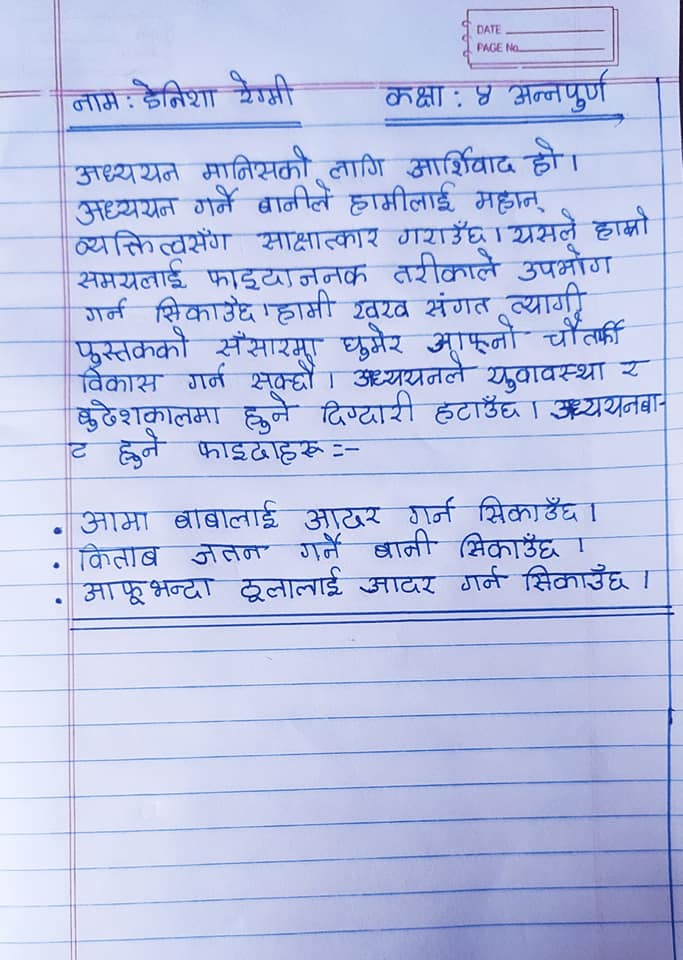text: (203, 258, 372, 289), (72, 226, 236, 256), (72, 327, 192, 368), (507, 67, 611, 113), (72, 398, 223, 428), (200, 143, 312, 183), (76, 575, 217, 606), (72, 255, 192, 291), (238, 565, 348, 604), (392, 248, 504, 286), (401, 144, 519, 180), (194, 435, 327, 466), (517, 243, 617, 284), (350, 353, 470, 387), (317, 388, 420, 427), (342, 182, 459, 216), (171, 500, 281, 535), (456, 529, 565, 564), (483, 360, 610, 390), (248, 226, 383, 254), (68, 155, 182, 188), (425, 316, 529, 352), (475, 492, 583, 526), (550, 388, 660, 421), (132, 75, 220, 116), (215, 327, 323, 360), (150, 294, 260, 326), (521, 563, 633, 594), (72, 192, 179, 224), (540, 317, 631, 352), (224, 66, 299, 108), (427, 394, 523, 425), (74, 539, 160, 571), (258, 183, 337, 217), (337, 323, 404, 363), (392, 222, 492, 248), (507, 208, 579, 243), (469, 187, 550, 218), (300, 501, 382, 531), (75, 367, 165, 394), (238, 392, 297, 433), (507, 283, 585, 314), (75, 504, 153, 535), (370, 529, 440, 563), (591, 203, 653, 241), (246, 359, 322, 390), (358, 571, 438, 599), (273, 289, 335, 325), (115, 428, 165, 471), (192, 540, 267, 568), (523, 133, 569, 178), (425, 290, 493, 319), (381, 81, 451, 109), (66, 84, 122, 118), (325, 152, 386, 181), (347, 297, 415, 323), (188, 184, 242, 215), (79, 292, 131, 324), (295, 531, 345, 563), (404, 496, 459, 525), (179, 364, 233, 391), (458, 565, 506, 593), (468, 81, 500, 108), (617, 357, 652, 381)
